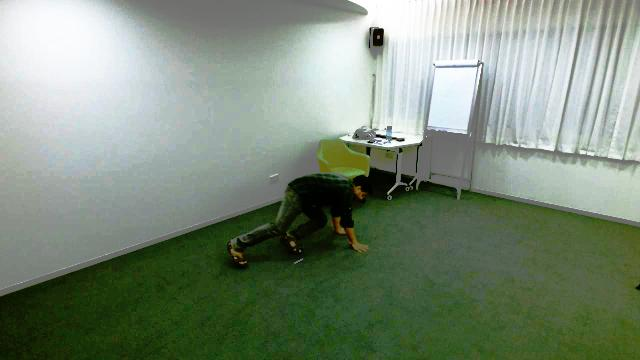jatuh: (222, 165, 376, 276)
